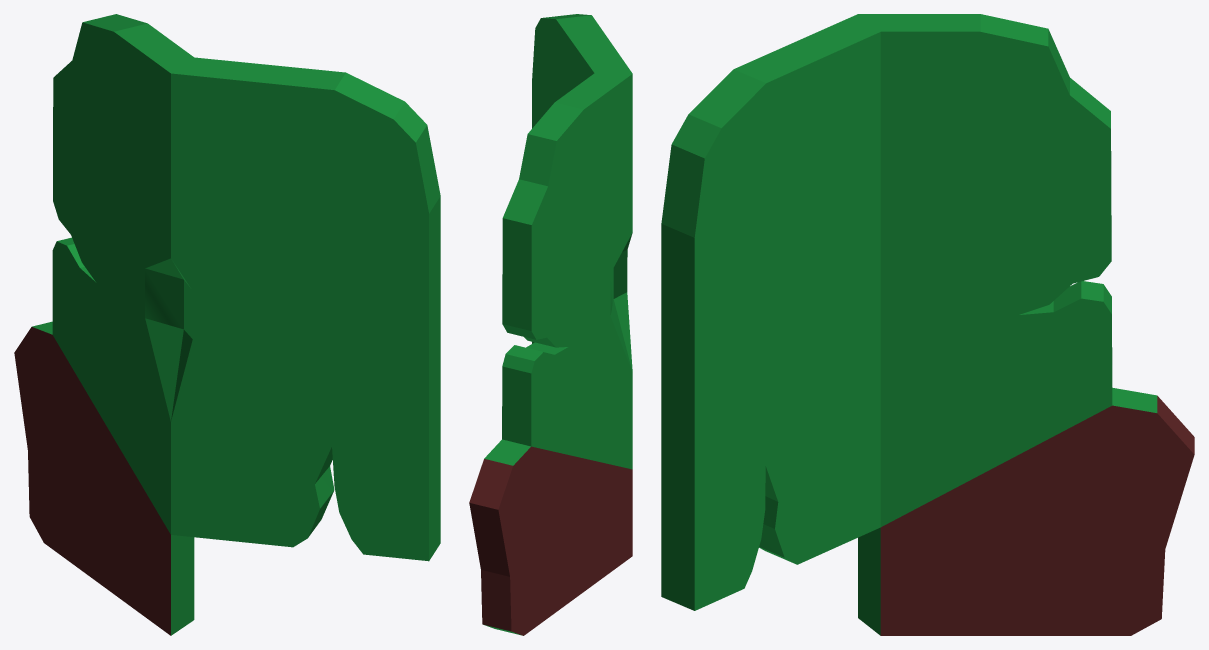
The model's file is TurretShield_Ruin.FBX.
3 views of the same model, side by side, from view 1: azimuth 30°, elevation 25°; view 2: azimuth 150°, elevation 25°; view 3: azimuth 270°, elevation 25° (orthographic). The views are drawn at different scales.
Visible parts, largest first — view 1: Box008; view 2: Box008; view 3: Box008.
Boxes of the visible parts, left/top/right/bottom form: Box008: left=14, top=14, right=440, bottom=635; Box008: left=469, top=14, right=632, bottom=635; Box008: left=661, top=14, right=1194, bottom=635.
Bounding box in the file's own units: 12.48 × 34.64 × 27.71.
